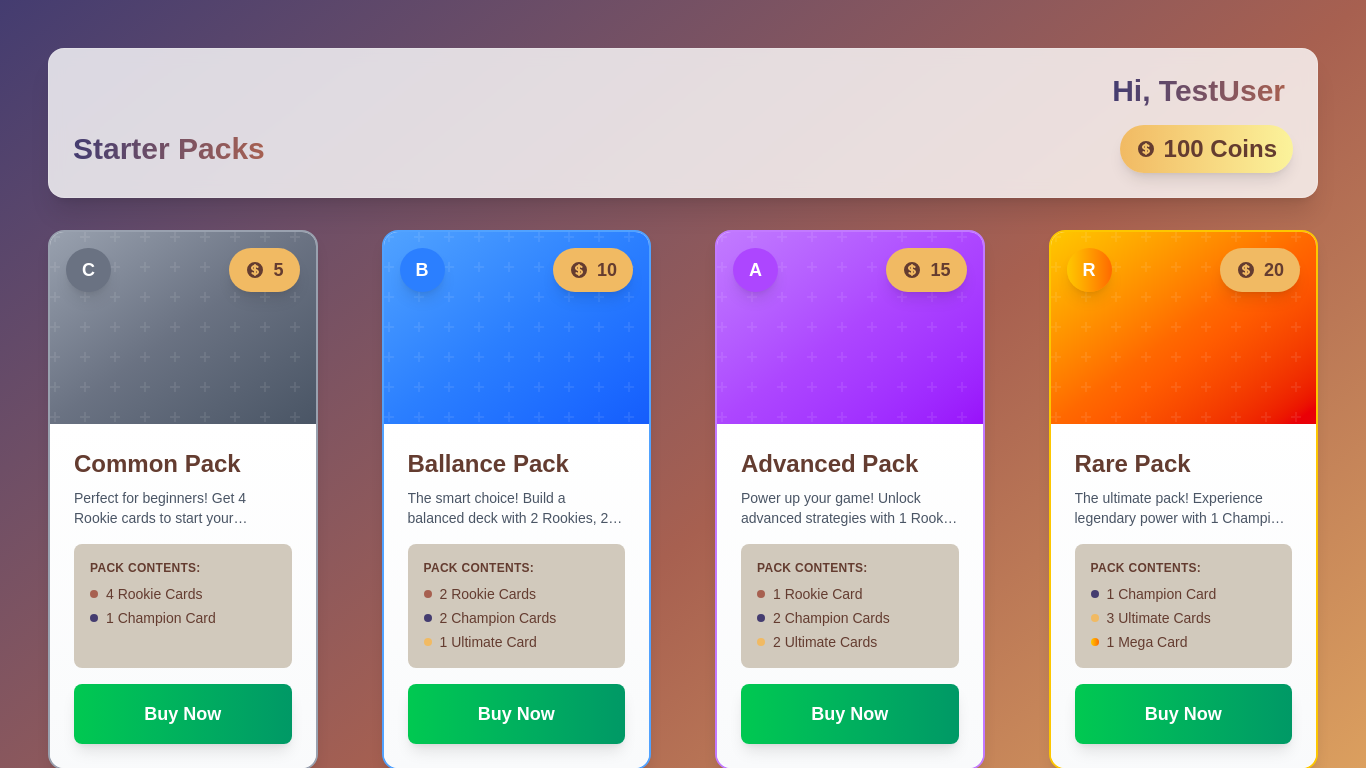
Scenario: HomePage - Rate Limiting Coverage Tests › should show rate limit error for buying packs when limit exceeded
This screenshot has width=1366, height=768.
Expected: the heading "Starter Packs" is shown, [73,131,265,167]
Click the button "Buy Now" below "Common": [183, 714] box [74,684,292,744]
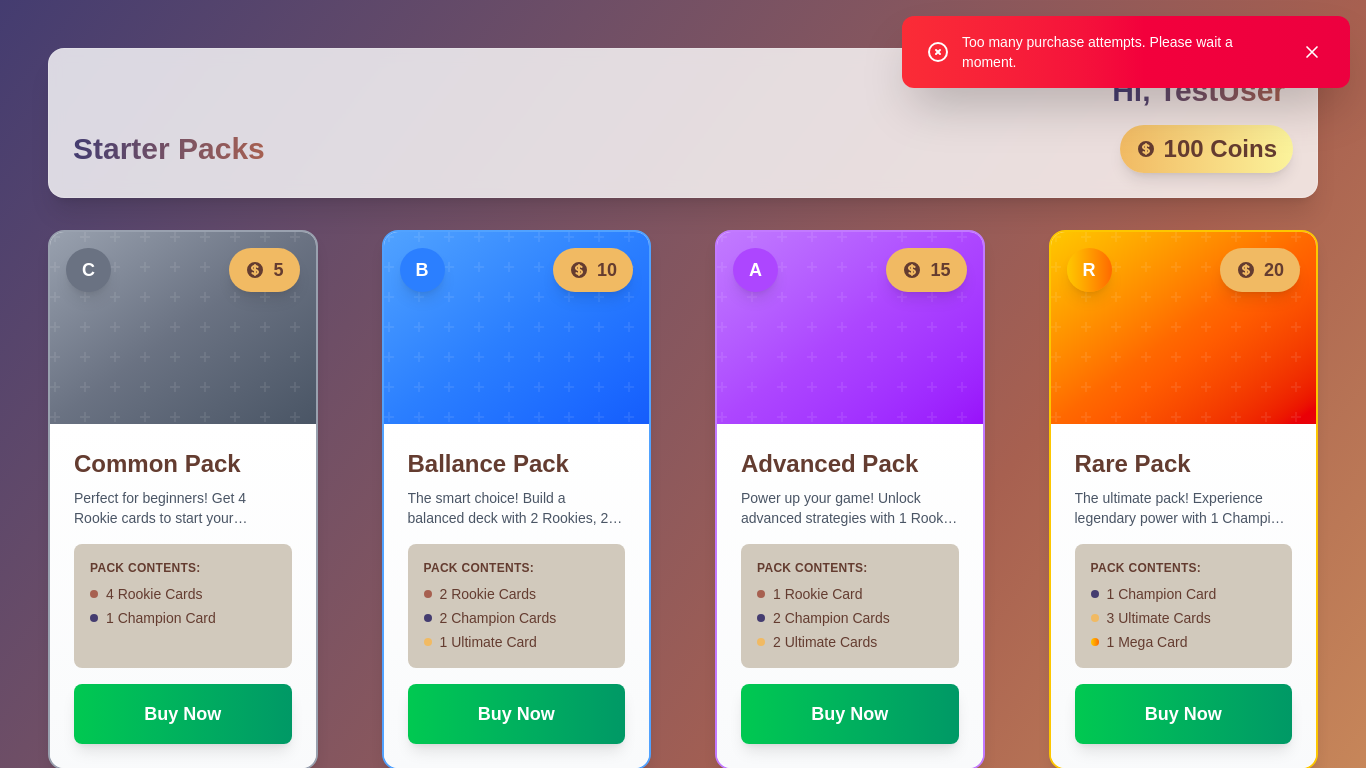
Expected: the text "Too many purchase attempts. Please wait a moment." is shown, [962,34,1233,70]
